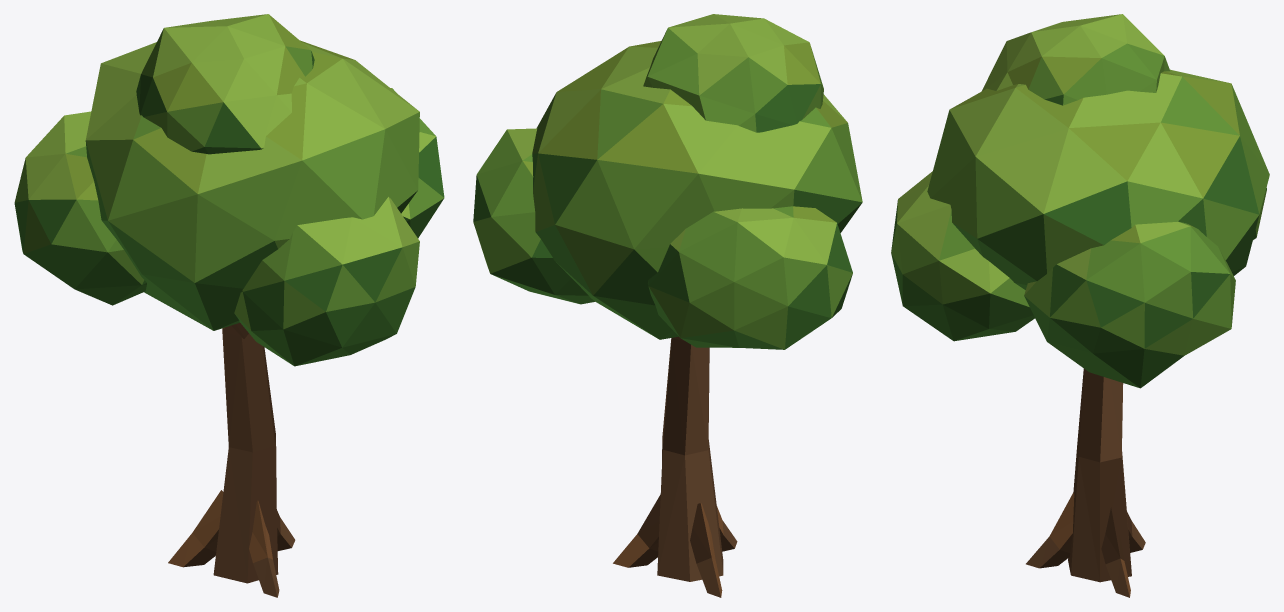
The model's file is tree_round.glb.
3 views of the same model, side by side, from view 1: azimuth 30°, elevation 25°; view 2: azimuth 150°, elevation 25°; view 3: azimuth 270°, elevation 25° (orthographic). The views are drawn at different scales.
Visible parts, largest first — view 1: tree_round; view 2: tree_round; view 3: tree_round.
Part boxes in pixels (x1,y1,x2,y2): tree_round: [14, 14, 444, 597]; tree_round: [473, 14, 862, 597]; tree_round: [891, 14, 1269, 597].
Bounding box in the file's own units: 2.52 × 3.56 × 2.31.
